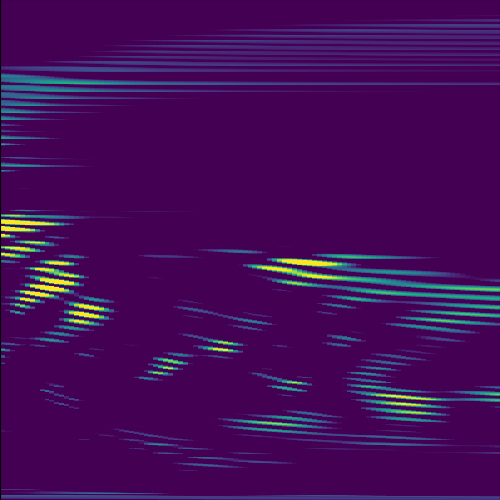semblance: (2, 256, 91, 318), (32, 294, 117, 347), (1, 209, 81, 260)
